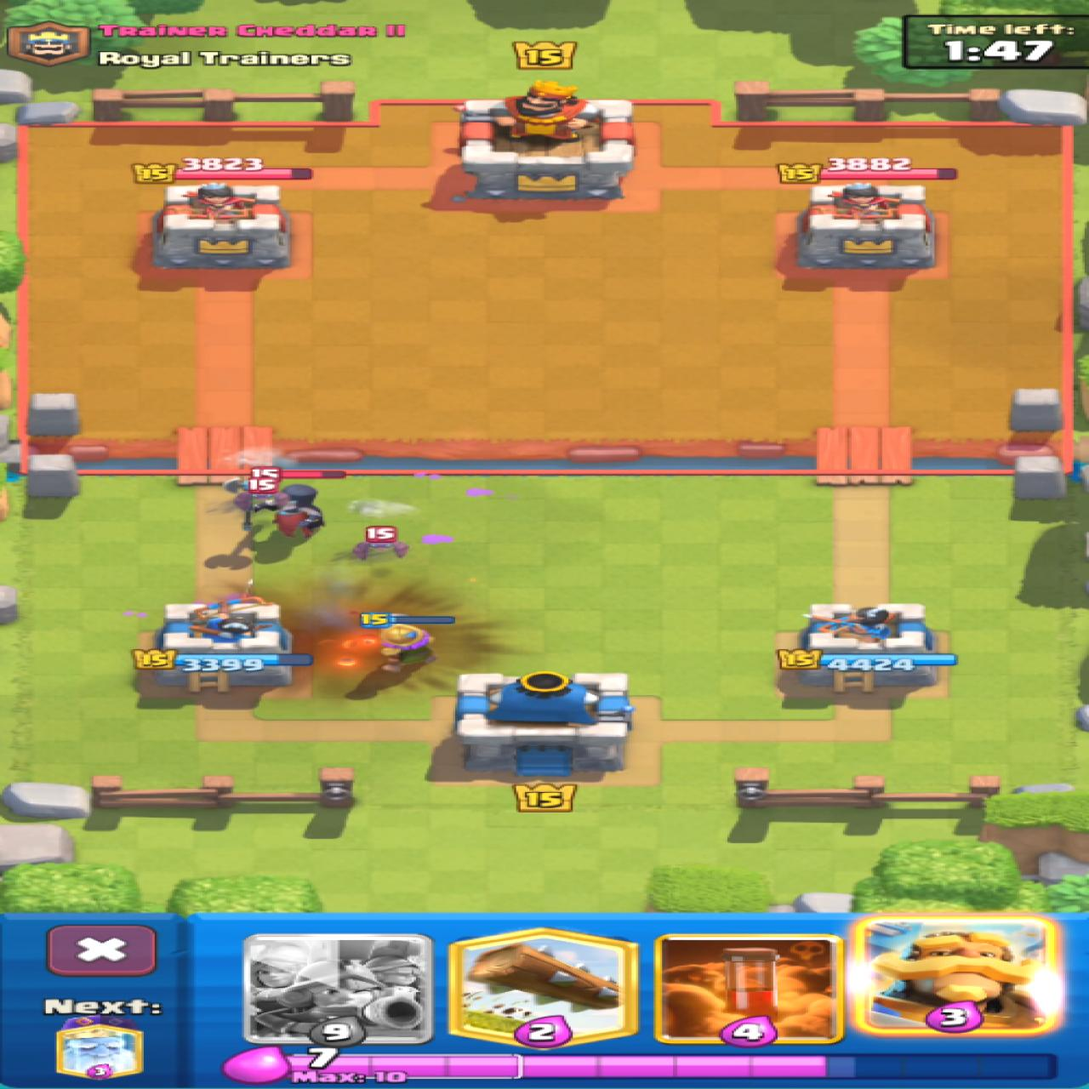Enemy-Bat: (353, 528, 407, 559), (233, 478, 285, 510)
Enemy-KingTower: (457, 80, 632, 198)
Enemy-NightWitch: (224, 478, 322, 538)
Enemy-PrincessTower: (152, 181, 290, 269), (797, 184, 934, 266)
